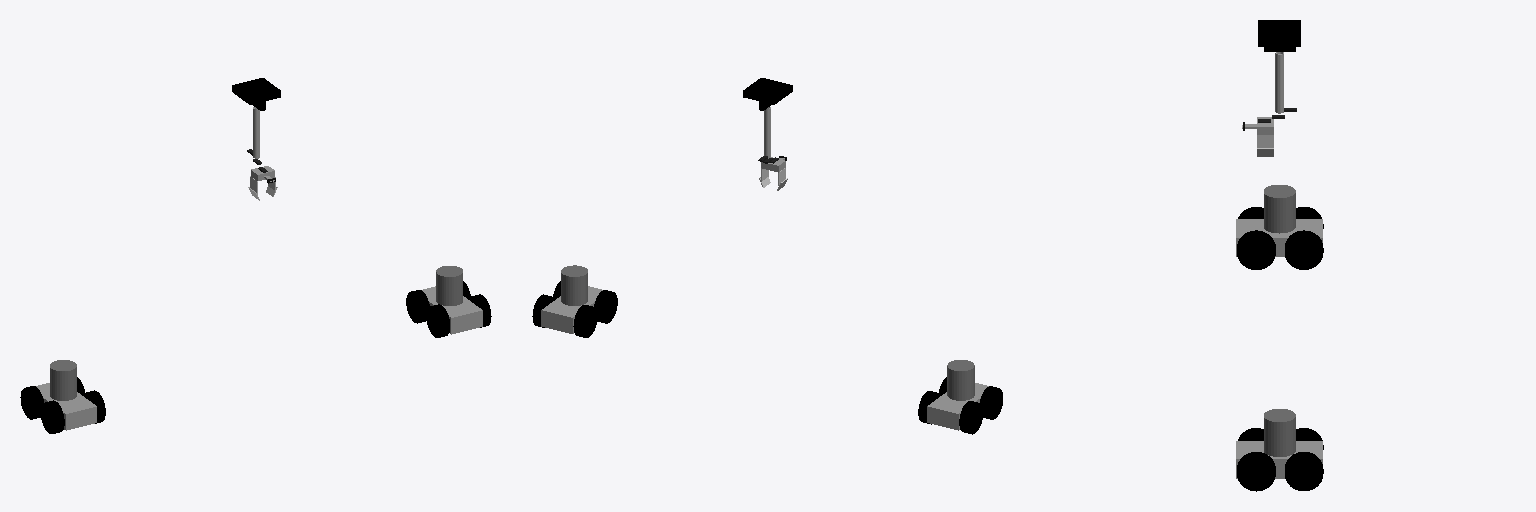
--- Facts derived from the render (not from the file) ---
3 views of the same robot in one strip: view 1: azimuth 30°, elevation 25°; view 2: azimuth 150°, elevation 25°; view 3: azimuth 270°, elevation 25° (orthographic).
Model frame with 47 links and 46 joints (1 revolute, 9 continuous, 5 prismatic, 31 fixed), rooted at Untitled.020, posed all joints at 0.
Visible links, largest first — view 1: Untitled.004, Untitled.009, Untitled.046, Untitled.045, Untitled.026, Untitled.008, Untitled.017, Untitled.011, Untitled.007; view 2: Untitled.004, Untitled.009, Untitled.046, Untitled.045, Untitled.026, Untitled.007, Untitled.011, Untitled.017, Untitled.008; view 3: Untitled.046, Untitled.045, Untitled.005, Untitled.015, Untitled.006, Untitled.013, Untitled.026, Untitled.004, Untitled.009, Untitled.030.
Link boxes in pixels (bbox=[...]): Untitled.004: bbox=[36, 383, 96, 430]; Untitled.009: bbox=[422, 286, 482, 334]; Untitled.046: bbox=[50, 360, 76, 400]; Untitled.045: bbox=[436, 266, 462, 305]; Untitled.026: bbox=[232, 78, 280, 104]; Untitled.008: bbox=[41, 400, 64, 433]; Untitled.017: bbox=[426, 304, 449, 337]; Untitled.011: bbox=[406, 290, 429, 323]; Untitled.007: bbox=[20, 386, 43, 419]; Untitled.004: bbox=[927, 383, 988, 430]; Untitled.009: bbox=[541, 286, 602, 333]; Untitled.046: bbox=[947, 360, 974, 400]; Untitled.045: bbox=[561, 265, 587, 305]; Untitled.026: bbox=[743, 78, 792, 104]; Untitled.007: bbox=[959, 401, 982, 434]; Untitled.011: bbox=[573, 305, 597, 337]; Untitled.017: bbox=[594, 290, 617, 323]; Untitled.008: bbox=[980, 386, 1002, 419]; Untitled.046: bbox=[1264, 185, 1295, 233]; Untitled.045: bbox=[1264, 409, 1295, 456]; Untitled.005: bbox=[1237, 230, 1275, 269]; Untitled.015: bbox=[1237, 452, 1275, 491]; Untitled.006: bbox=[1285, 230, 1323, 269]; Untitled.013: bbox=[1285, 452, 1323, 490]; Untitled.026: bbox=[1258, 20, 1300, 46]; Untitled.004: bbox=[1236, 219, 1322, 256]; Untitled.009: bbox=[1236, 441, 1322, 478]; Untitled.030: bbox=[1275, 52, 1283, 113].
Size in the robot's own frame: 2.75 by 0.4022 by 1.73 metres.
1 mesh visuals loaded from 7 distinct referenced files (1 binary STL); not drawn: 6 (reference not matched to a file when rendering).

URDF robot description (frame):
<?xml version="1.0"?>
<!-- created with Phobos 1.0.1 "Capricious Choutengan" -->
  <robot name="frame">

    <link name="Untitled">
      <inertial>
        <origin xyz="0 0 0" rpy="0 0 0"/>
        <mass value="0.001"/>
        <inertia ixx="0.001" ixy="0" ixz="0" iyy="0.001" iyz="0" izz="0.001"/>
      </inertial>
    </link>

    <link name="Untitled.001">
      <inertial>
        <origin xyz="0 0 0" rpy="0 0 0"/>
        <mass value="0.001"/>
        <inertia ixx="0.001" ixy="0" ixz="0" iyy="0.001" iyz="0" izz="0.001"/>
      </inertial>
    </link>

    <link name="Untitled.002">
      <inertial>
        <origin xyz="0 0 0" rpy="0 0 0"/>
        <mass value="0.001"/>
        <inertia ixx="0.001" ixy="0" ixz="0" iyy="0.001" iyz="0" izz="0.001"/>
      </inertial>
    </link>

    <link name="Untitled.003">
      <inertial>
        <origin xyz="0 0 0" rpy="0 0 0"/>
        <mass value="0.001"/>
        <inertia ixx="0.001" ixy="0" ixz="0" iyy="0.001" iyz="0" izz="0.001"/>
      </inertial>
    </link>

    <link name="Untitled.004">
      <inertial>
        <origin xyz="0 0 0" rpy="0 0 0"/>
        <mass value="4.0"/>
        <inertia ixx="0.00043" ixy="0" ixz="0" iyy="0.00145" iyz="0" izz="0.06667"/>
      </inertial>
      <visual name="base link.000">
        <origin xyz="0 0 0" rpy="0 0 0"/>
        <geometry>
          <box size="0.4 0.2 0.1"/>
        </geometry>
        <material name="Material.005"/>
      </visual>
      <collision name="base link.000">
        <origin xyz="0 0 0" rpy="0 0 0"/>
        <geometry>
          <box size="0.4 0.2 0.1"/>
        </geometry>
      </collision>
    </link>

    <link name="Untitled.005">
      <inertial>
        <origin xyz="0 0 0" rpy="0 0 0"/>
        <mass value="0.25"/>
        <inertia ixx="7e-05" ixy="0" ixz="0" iyy="0.00013" iyz="0" izz="0.00056"/>
      </inertial>
      <visual name="bl Link.000">
        <origin xyz="-0.0022 0 0" rpy="-3.14159 0 0"/>
        <geometry>
          <cylinder radius="0.09" length="0.05"/>
        </geometry>
        <material name="Material.004"/>
      </visual>
      <collision name="bl Link.000">
        <origin xyz="-0.0022 0 0" rpy="-3.14159 0 0"/>
        <geometry>
          <cylinder radius="0.09" length="0.05"/>
        </geometry>
      </collision>
    </link>

    <link name="Untitled.006">
      <inertial>
        <origin xyz="0 0 0" rpy="0 0 0"/>
        <mass value="0.25"/>
        <inertia ixx="7e-05" ixy="0" ixz="0" iyy="0.00013" iyz="0" izz="0.00056"/>
      </inertial>
      <visual name="bl Link.002.000">
        <origin xyz="-0.0022 0 0" rpy="-3.14159 0 0"/>
        <geometry>
          <cylinder radius="0.09" length="0.05"/>
        </geometry>
        <material name="Material.001"/>
      </visual>
      <collision name="bl Link.002.000">
        <origin xyz="-0.0022 0 0" rpy="-3.14159 0 0"/>
        <geometry>
          <cylinder radius="0.09" length="0.05"/>
        </geometry>
      </collision>
    </link>

    <link name="Untitled.007">
      <inertial>
        <origin xyz="0 0 0" rpy="0 0 0"/>
        <mass value="0.25"/>
        <inertia ixx="7e-05" ixy="0" ixz="0" iyy="0.00013" iyz="0" izz="0.00056"/>
      </inertial>
      <visual name="bl Link.003.000">
        <origin xyz="-0.0022 0 0" rpy="0 0 0"/>
        <geometry>
          <cylinder radius="0.09" length="0.05"/>
        </geometry>
        <material name="Material.002"/>
      </visual>
      <collision name="bl Link.003.000">
        <origin xyz="-0.0022 0 0" rpy="0 0 0"/>
        <geometry>
          <cylinder radius="0.09" length="0.05"/>
        </geometry>
      </collision>
    </link>

    <link name="Untitled.008">
      <inertial>
        <origin xyz="0 0 0" rpy="0 0 0"/>
        <mass value="0.25"/>
        <inertia ixx="7e-05" ixy="0" ixz="0" iyy="0.00013" iyz="0" izz="0.00056"/>
      </inertial>
      <visual name="bl Link.001.000">
        <origin xyz="-0.0022 0 0" rpy="0 0 0"/>
        <geometry>
          <cylinder radius="0.09" length="0.05"/>
        </geometry>
        <material name="Material.003"/>
      </visual>
      <collision name="bl Link.001.000">
        <origin xyz="-0.0022 0 0" rpy="0 0 0"/>
        <geometry>
          <cylinder radius="0.09" length="0.05"/>
        </geometry>
      </collision>
    </link>

    <link name="Untitled.009">
      <inertial>
        <origin xyz="0 0 0" rpy="0 0 0"/>
        <mass value="4.0"/>
        <inertia ixx="0.00043" ixy="0" ixz="0" iyy="0.00145" iyz="0" izz="0.06667"/>
      </inertial>
      <visual name="base link.001">
        <origin xyz="0 0 0" rpy="0 0 0"/>
        <geometry>
          <box size="0.4 0.2 0.1"/>
        </geometry>
        <material name="Material.005"/>
      </visual>
      <collision name="base link.000">
        <origin xyz="0 0 0" rpy="0 0 0"/>
        <geometry>
          <box size="0.4 0.2 0.1"/>
        </geometry>
      </collision>
    </link>

    <link name="Untitled.010">
      <inertial>
        <origin xyz="0 0 0" rpy="0 0 0"/>
        <mass value="0.001"/>
        <inertia ixx="0.001" ixy="0" ixz="0" iyy="0.001" iyz="0" izz="0.001"/>
      </inertial>
    </link>

    <link name="Untitled.011">
      <inertial>
        <origin xyz="0 0 0" rpy="0 0 0"/>
        <mass value="0.25"/>
        <inertia ixx="7e-05" ixy="0" ixz="0" iyy="0.00013" iyz="0" izz="0.00056"/>
      </inertial>
      <visual name="bl Link.003.001">
        <origin xyz="-0.0022 0 0" rpy="0 0 0"/>
        <geometry>
          <cylinder radius="0.09" length="0.05"/>
        </geometry>
        <material name="Material.002"/>
      </visual>
      <collision name="bl Link.003.000">
        <origin xyz="-0.0022 0 0" rpy="0 0 0"/>
        <geometry>
          <cylinder radius="0.09" length="0.05"/>
        </geometry>
      </collision>
    </link>

    <link name="Untitled.012">
      <inertial>
        <origin xyz="0 0 0" rpy="0 0 0"/>
        <mass value="0.001"/>
        <inertia ixx="0.001" ixy="0" ixz="0" iyy="0.001" iyz="0" izz="0.001"/>
      </inertial>
    </link>

    <link name="Untitled.013">
      <inertial>
        <origin xyz="0 0 0" rpy="0 0 0"/>
        <mass value="0.25"/>
        <inertia ixx="7e-05" ixy="0" ixz="0" iyy="0.00013" iyz="0" izz="0.00056"/>
      </inertial>
      <visual name="bl Link.002.001">
        <origin xyz="-0.0022 0 0" rpy="-3.14159 0 0"/>
        <geometry>
          <cylinder radius="0.09" length="0.05"/>
        </geometry>
        <material name="Material.001"/>
      </visual>
      <collision name="bl Link.002.000">
        <origin xyz="-0.0022 0 0" rpy="-3.14159 0 0"/>
        <geometry>
          <cylinder radius="0.09" length="0.05"/>
        </geometry>
      </collision>
    </link>

    <link name="Untitled.014">
      <inertial>
        <origin xyz="0 0 0" rpy="0 0 0"/>
        <mass value="0.001"/>
        <inertia ixx="0.001" ixy="0" ixz="0" iyy="0.001" iyz="0" izz="0.001"/>
      </inertial>
    </link>

    <link name="Untitled.015">
      <inertial>
        <origin xyz="0 0 0" rpy="0 0 0"/>
        <mass value="0.25"/>
        <inertia ixx="7e-05" ixy="0" ixz="0" iyy="0.00013" iyz="0" izz="0.00056"/>
      </inertial>
      <visual name="bl Link.001">
        <origin xyz="-0.0022 0 0" rpy="-3.14159 0 0"/>
        <geometry>
          <cylinder radius="0.09" length="0.05"/>
        </geometry>
        <material name="Material.004"/>
      </visual>
      <collision name="bl Link.000">
        <origin xyz="-0.0022 0 0" rpy="-3.14159 0 0"/>
        <geometry>
          <cylinder radius="0.09" length="0.05"/>
        </geometry>
      </collision>
    </link>

    <link name="Untitled.016">
      <inertial>
        <origin xyz="0 0 0" rpy="0 0 0"/>
        <mass value="0.001"/>
        <inertia ixx="0.001" ixy="0" ixz="0" iyy="0.001" iyz="0" izz="0.001"/>
      </inertial>
    </link>

    <link name="Untitled.017">
      <inertial>
        <origin xyz="0 0 0" rpy="0 0 0"/>
        <mass value="0.25"/>
        <inertia ixx="7e-05" ixy="0" ixz="0" iyy="0.00013" iyz="0" izz="0.00056"/>
      </inertial>
      <visual name="bl Link.001.001">
        <origin xyz="-0.0022 0 0" rpy="0 0 0"/>
        <geometry>
          <cylinder radius="0.09" length="0.05"/>
        </geometry>
        <material name="Material.003"/>
      </visual>
      <collision name="bl Link.001.000">
        <origin xyz="-0.0022 0 0" rpy="0 0 0"/>
        <geometry>
          <cylinder radius="0.09" length="0.05"/>
        </geometry>
      </collision>
    </link>

    <link name="Untitled.018">
      <inertial>
        <origin xyz="0 0 0" rpy="0 0 0"/>
        <mass value="0.001"/>
        <inertia ixx="0.001" ixy="0" ixz="0" iyy="0.001" iyz="0" izz="0.001"/>
      </inertial>
    </link>

    <link name="Untitled.019">
      <inertial>
        <origin xyz="0 0 0" rpy="0 0 0"/>
        <mass value="0.001"/>
        <inertia ixx="0.001" ixy="0" ixz="0" iyy="0.001" iyz="0" izz="0.001"/>
      </inertial>
    </link>

    <link name="Untitled.020">
      <inertial>
        <origin xyz="0 0 0" rpy="0 0 0"/>
        <mass value="6.0"/>
        <inertia ixx="5.68584" ixy="0" ixz="0" iyy="1.05355" iyz="0" izz="4.63377"/>
      </inertial>
      <visual name="base link.002">
        <origin xyz="0 0 -0.06" rpy="0 0 0"/>
        <geometry>
          <mesh filename="base link.004.stl" scale="1.0 1.0 1.0"/>
        </geometry>
        <material name="Material.007"/>
      </visual>
      <collision name="base link.002.000">
        <origin xyz="0 0 -0.06" rpy="0 0 0"/>
        <geometry>
          <mesh filename="base link.005.stl" scale="1.0 1.0 1.0"/>
        </geometry>
      </collision>
    </link>

    <link name="Untitled.021">
      <inertial>
        <origin xyz="0 0 0.01" rpy="0 0 0"/>
        <mass value="0.01"/>
        <inertia ixx="2e-05" ixy="0" ixz="0" iyy="2e-05" iyz="0" izz="2e-05"/>
      </inertial>
      <visual name="Cube.003">
        <origin xyz="0 0 0.01" rpy="0 0 0"/>
        <geometry>
          <box size="0.15 0.03 0.01"/>
        </geometry>
        <material name="Material.009"/>
      </visual>
      <collision name="Cube.003">
        <origin xyz="0 0 0.01" rpy="0 0 0"/>
        <geometry>
          <box size="0.15 0.03 0.01"/>
        </geometry>
      </collision>
    </link>

    <link name="Untitled.022">
      <inertial>
        <origin xyz="0 0 0" rpy="0 0 0"/>
        <mass value="0.05"/>
        <inertia ixx="2e-05" ixy="0" ixz="0" iyy="2e-05" iyz="0" izz="2e-05"/>
      </inertial>
      <visual name="Cube.002">
        <origin xyz="0 0 0" rpy="0 0 0"/>
        <geometry>
          <box size="0.03 0.03 0.06"/>
        </geometry>
        <material name="Material.010"/>
      </visual>
      <collision name="Cube.002">
        <origin xyz="0 0 0" rpy="0 0 0"/>
        <geometry>
          <box size="0.03 0.03 0.06"/>
        </geometry>
      </collision>
    </link>

    <link name="Untitled.023">
      <inertial>
        <origin xyz="0 0 0" rpy="0 0 0"/>
        <mass value="0.05"/>
        <inertia ixx="2e-05" ixy="0" ixz="0" iyy="2e-05" iyz="0" izz="2e-05"/>
      </inertial>
      <visual name="Cube.001">
        <origin xyz="0 0 0" rpy="0 0 0"/>
        <geometry>
          <box size="0.03 0.03 0.06"/>
        </geometry>
        <material name="Material.010"/>
      </visual>
      <collision name="Cube.001">
        <origin xyz="0 0 0" rpy="0 0 0"/>
        <geometry>
          <box size="0.03 0.03 0.06"/>
        </geometry>
      </collision>
    </link>

    <link name="Untitled.024">
      <inertial>
        <origin xyz="0 0 0" rpy="0 0 0"/>
        <mass value="0.001"/>
        <inertia ixx="0.001" ixy="0" ixz="0" iyy="0.001" iyz="0" izz="0.001"/>
      </inertial>
    </link>

    <link name="Untitled.025">
      <inertial>
        <origin xyz="0 0 0" rpy="0 0 0"/>
        <mass value="0.001"/>
        <inertia ixx="0.001" ixy="0" ixz="0" iyy="0.001" iyz="0" izz="0.001"/>
      </inertial>
    </link>

    <link name="Untitled.026">
      <inertial>
        <origin xyz="0 0 0" rpy="0 0 0"/>
        <mass value="0.5"/>
        <inertia ixx="2e-05" ixy="0" ixz="0" iyy="2e-05" iyz="0" izz="2e-05"/>
      </inertial>
      <visual name="Cube">
        <origin xyz="0 0 0" rpy="-1.5708 0 0"/>
        <geometry>
          <box size="0.2 0.2 0.04"/>
        </geometry>
        <material name="Material.008"/>
      </visual>
      <collision name="Cube">
        <origin xyz="0 0 0" rpy="-1.5708 0 0"/>
        <geometry>
          <box size="0.2 0.2 0.04"/>
        </geometry>
      </collision>
    </link>

    <link name="Untitled.027">
      <inertial>
        <origin xyz="0 0 0" rpy="0 0 0"/>
        <mass value="0.5"/>
        <inertia ixx="0.00286" ixy="0" ixz="0" iyy="0.00286" iyz="0" izz="0.0001"/>
      </inertial>
      <visual name="base link">
        <origin xyz="0 0 0" rpy="0 0 0"/>
        <geometry>
          <mesh filename="base link.006.stl" scale="1.0 1.0 1.0"/>
        </geometry>
        <material name="Material.011"/>
      </visual>
      <collision name="base link.000.001.002">
        <origin xyz="0 0.00061 0" rpy="0 0 0"/>
        <geometry>
          <mesh filename="base link.009.stl" scale="1.0 1.0 1.0"/>
        </geometry>
      </collision>
    </link>

    <link name="Untitled.028">
      <inertial>
        <origin xyz="0 0 0.02952" rpy="0 0 0"/>
        <mass value="0.5"/>
        <inertia ixx="0.00377" ixy="0" ixz="0" iyy="0.00377" iyz="0" izz="4e-05"/>
      </inertial>
      <visual name="inner Link">
        <origin xyz="0 0 0.02952" rpy="0 0 0"/>
        <geometry>
          <mesh filename="inner Link.stl" scale="1.0 1.0 1.0"/>
        </geometry>
        <material name="Material.012"/>
      </visual>
      <collision name="inner Link.000">
        <origin xyz="0 0 0.02952" rpy="0 0 0"/>
        <geometry>
          <mesh filename="inner Link.003.stl" scale="1.0 1.0 1.0"/>
        </geometry>
      </collision>
    </link>

    <link name="Untitled.029">
      <inertial>
        <origin xyz="0 0 0" rpy="0 0 0"/>
        <mass value="0.1"/>
        <inertia ixx="2e-05" ixy="0" ixz="0" iyy="2e-05" iyz="0" izz="2e-05"/>
      </inertial>
      <visual name="Cube.004">
        <origin xyz="0 0 0" rpy="0 0 0"/>
        <geometry>
          <box size="0.06 0.026 0.01"/>
        </geometry>
        <material name="Material.013"/>
      </visual>
      <collision name="Cube.004">
        <origin xyz="0 0 0" rpy="0 0 0"/>
        <geometry>
          <box size="0.06 0.026 0.01"/>
        </geometry>
      </collision>
    </link>

    <link name="Untitled.030">
      <inertial>
        <origin xyz="0 0 0" rpy="0 0 0"/>
        <mass value="0.5"/>
        <inertia ixx="0.00286" ixy="0" ixz="0" iyy="0.00286" iyz="0" izz="0.0001"/>
      </inertial>
      <visual name="base link.003">
        <origin xyz="0 0 0" rpy="0 0 0"/>
        <geometry>
          <mesh filename="base link.007.stl" scale="1.0 1.0 1.0"/>
        </geometry>
        <material name="Material.014"/>
      </visual>
      <collision name="base link.003.000">
        <origin xyz="0 0 0" rpy="0 0 0"/>
        <geometry>
          <mesh filename="base link.010.stl" scale="1.0 1.0 1.0"/>
        </geometry>
      </collision>
    </link>

    <link name="Untitled.031">
      <inertial>
        <origin xyz="0 0 0" rpy="0 0 0"/>
        <mass value="0.5"/>
        <inertia ixx="0.00377" ixy="0" ixz="0" iyy="0.00377" iyz="0" izz="4e-05"/>
      </inertial>
      <visual name="inner Link.001">
        <origin xyz="0 0 0" rpy="0 0 0"/>
        <geometry>
          <mesh filename="inner Link.001.stl" scale="1.0 1.0 1.0"/>
        </geometry>
        <material name="Material.015"/>
      </visual>
      <collision name="inner Link.001.000">
        <origin xyz="0 0 0" rpy="0 0 0"/>
        <geometry>
          <mesh filename="inner Link.004.stl" scale="1.0 1.0 1.0"/>
        </geometry>
      </collision>
    </link>

    <link name="Untitled.032">
      <inertial>
        <origin xyz="0 0 0" rpy="0 0 0"/>
        <mass value="0.1"/>
        <inertia ixx="2e-05" ixy="0" ixz="0" iyy="2e-05" iyz="0" izz="2e-05"/>
      </inertial>
      <visual name="Cube.005">
        <origin xyz="0 0 0" rpy="0 0 0"/>
        <geometry>
          <box size="0.06 0.026 0.01"/>
        </geometry>
        <material name="Material.016"/>
      </visual>
      <collision name="Cube.005">
        <origin xyz="0 0 0" rpy="0 0 0"/>
        <geometry>
          <box size="0.06 0.026 0.01"/>
        </geometry>
      </collision>
    </link>

    <link name="Untitled.033">
      <inertial>
        <origin xyz="0 0 0" rpy="0 0 0"/>
        <mass value="0.5"/>
        <inertia ixx="0.00286" ixy="0" ixz="0" iyy="0.00286" iyz="0" izz="0.0001"/>
      </inertial>
      <visual name="base link.004">
        <origin xyz="0 0 0" rpy="0 0 0"/>
        <geometry>
          <mesh filename="base link.008.stl" scale="1.0 1.0 1.0"/>
        </geometry>
        <material name="Material.017"/>
      </visual>
      <collision name="base link.004.000">
        <origin xyz="0 0 0" rpy="0 0 0"/>
        <geometry>
          <mesh filename="base link.011.stl" scale="1.0 1.0 1.0"/>
        </geometry>
      </collision>
    </link>

    <link name="Untitled.034">
      <inertial>
        <origin xyz="0 0 0" rpy="0 0 0"/>
        <mass value="0.5"/>
        <inertia ixx="0.00377" ixy="0" ixz="0" iyy="0.00377" iyz="0" izz="4e-05"/>
      </inertial>
      <visual name="inner Link.002">
        <origin xyz="0 0 0" rpy="0 0 0"/>
        <geometry>
          <mesh filename="inner Link.002.stl" scale="1.0 1.0 1.0"/>
        </geometry>
        <material name="Material.018"/>
      </visual>
      <collision name="inner Link.002.000">
        <origin xyz="0 0 0" rpy="0 0 0"/>
        <geometry>
          <mesh filename="inner Link.005.stl" scale="1.0 1.0 1.0"/>
        </geometry>
      </collision>
    </link>

    <link name="Untitled.035">
      <inertial>
        <origin xyz="0 0 0" rpy="0 0 0"/>
        <mass value="0.1"/>
        <inertia ixx="2e-05" ixy="0" ixz="0" iyy="2e-05" iyz="0" izz="2e-05"/>
      </inertial>
      <visual name="Cube.006">
        <origin xyz="0 0 0" rpy="0 0 0"/>
        <geometry>
          <box size="0.06 0.026 0.01"/>
        </geometry>
        <material name="Material.019"/>
      </visual>
      <collision name="Cube.006">
        <origin xyz="0 0 0" rpy="0 0 0"/>
        <geometry>
          <box size="0.06 0.026 0.01"/>
        </geometry>
      </collision>
    </link>

    <link name="Untitled.036">
      <inertial>
        <origin xyz="0 0 0" rpy="0 0 0"/>
        <mass value="0.3"/>
        <inertia ixx="2e-05" ixy="0" ixz="0" iyy="2e-05" iyz="0" izz="2e-05"/>
      </inertial>
      <visual name="Cube.007">
        <origin xyz="0 0 0" rpy="0 0 0"/>
        <geometry>
          <box size="0.08 0.11 0.04"/>
        </geometry>
        <material name="Material.020"/>
      </visual>
      <collision name="Cube.007">
        <origin xyz="0 0 0" rpy="0 0 0"/>
        <geometry>
          <box size="0.06 0.055 0.04"/>
        </geometry>
      </collision>
    </link>

    <link name="Untitled.037">
      <inertial>
        <origin xyz="0 0 0" rpy="0 0 0"/>
        <mass value="0.01"/>
        <inertia ixx="2e-05" ixy="0" ixz="0" iyy="2e-05" iyz="0" izz="2e-05"/>
      </inertial>
      <visual name="Cube.009">
        <origin xyz="0 0 0" rpy="0 0 0"/>
        <geometry>
          <box size="0.08 0.005 0.06"/>
        </geometry>
        <material name="Material.021"/>
      </visual>
      <collision name="Cube.009">
        <origin xyz="0 0 0" rpy="0 0 0"/>
        <geometry>
          <box size="0.08 0.005 0.06"/>
        </geometry>
      </collision>
    </link>

    <link name="Untitled.038">
      <inertial>
        <origin xyz="0 0 0" rpy="0 0 0"/>
        <mass value="0.05"/>
        <inertia ixx="2e-05" ixy="0" ixz="0" iyy="2e-05" iyz="0" izz="2e-05"/>
      </inertial>
      <visual name="Cube.008">
        <origin xyz="0 0 0" rpy="-1.5708 0 0"/>
        <geometry>
          <box size="0.08 0.005 0.08"/>
        </geometry>
        <material name="Material.022"/>
      </visual>
      <collision name="Cube.008">
        <origin xyz="0 0 0" rpy="-1.5708 0 0"/>
        <geometry>
          <box size="0.08 0.005 0.08"/>
        </geometry>
      </collision>
    </link>

    <link name="Untitled.039">
      <inertial>
        <origin xyz="0 0 0" rpy="0 0 0"/>
        <mass value="0.01"/>
        <inertia ixx="2e-05" ixy="0" ixz="0" iyy="2e-05" iyz="0" izz="2e-05"/>
      </inertial>
      <visual name="Cube.011">
        <origin xyz="0 0 0" rpy="0 0 0"/>
        <geometry>
          <box size="0.08 0.005 0.06"/>
        </geometry>
        <material name="Material.024"/>
      </visual>
      <collision name="Cube.011">
        <origin xyz="0 0 0" rpy="0 0 0"/>
        <geometry>
          <box size="0.08 0.005 0.06"/>
        </geometry>
      </collision>
    </link>

    <link name="Untitled.040">
      <inertial>
        <origin xyz="0 0 0" rpy="0 0 0"/>
        <mass value="0.05"/>
        <inertia ixx="2e-05" ixy="0" ixz="0" iyy="2e-05" iyz="0" izz="2e-05"/>
      </inertial>
      <visual name="Cube.010">
        <origin xyz="0 0 0" rpy="1.5708 0 0"/>
        <geometry>
          <box size="0.08 0.005 0.08"/>
        </geometry>
        <material name="Material.023"/>
      </visual>
      <collision name="Cube.010">
        <origin xyz="0 0 0" rpy="1.5708 0 0"/>
        <geometry>
          <box size="0.08 0.005 0.08"/>
        </geometry>
      </collision>
    </link>

    <link name="Untitled.041">
      <inertial>
        <origin xyz="0 0 0" rpy="0 0 0"/>
        <mass value="0.005"/>
        <inertia ixx="2e-05" ixy="0" ixz="0" iyy="2e-05" iyz="0" izz="2e-05"/>
      </inertial>
      <visual name="Cube.012.000">
        <origin xyz="0 0 0" rpy="0 0 0"/>
        <geometry>
          <box size="0.06 0.026 0.01"/>
        </geometry>
        <material name="Material.025"/>
      </visual>
      <collision name="Cube.012.000">
        <origin xyz="0 0 0" rpy="0 0 0"/>
        <geometry>
          <box size="0.06 0.026 0.01"/>
        </geometry>
      </collision>
    </link>

    <link name="Untitled.042">
      <inertial>
        <origin xyz="0 0 0.01" rpy="0 0 0"/>
        <mass value="0.005"/>
        <inertia ixx="2e-05" ixy="0" ixz="0" iyy="2e-05" iyz="0" izz="2e-05"/>
      </inertial>
      <visual name="Cube.013">
        <origin xyz="0 0 0.01" rpy="-1.5708 0 -1.5708"/>
        <geometry>
          <box size="0.02 0.05 0.01"/>
        </geometry>
        <material name="Material.026"/>
      </visual>
      <collision name="Cube.013">
        <origin xyz="0 0 0.01" rpy="-1.5708 0 -1.5708"/>
        <geometry>
          <box size="0.02 0.05 0.01"/>
        </geometry>
      </collision>
    </link>

    <link name="Untitled.043">
      <inertial>
        <origin xyz="0 0 0" rpy="0 0 0"/>
        <mass value="0.001"/>
        <inertia ixx="0.001" ixy="0" ixz="0" iyy="0.001" iyz="0" izz="0.001"/>
      </inertial>
      <visual name="Cylinder.001">
        <origin xyz="0 0 0" rpy="0 0 0"/>
        <geometry>
          <cylinder radius="0.005" length="0.01"/>
        </geometry>
        <material name="Material.027"/>
      </visual>
    </link>

    <link name="Untitled.044">
      <inertial>
        <origin xyz="0 0 0" rpy="0 0 0"/>
        <mass value="0.001"/>
        <inertia ixx="0.001" ixy="0" ixz="0" iyy="0.001" iyz="0" izz="0.001"/>
      </inertial>
      <visual name="Cylinder">
        <origin xyz="0 0 0" rpy="0 0 0"/>
        <geometry>
          <cylinder radius="0.005" length="0.01"/>
        </geometry>
        <material name="Material.027"/>
      </visual>
    </link>

    <link name="Untitled.045">
      <inertial>
        <origin xyz="0 0 0" rpy="0 0 0"/>
        <mass value="1.0"/>
        <inertia ixx="2e-05" ixy="0" ixz="0" iyy="2e-05" iyz="0" izz="3e-05"/>
      </inertial>
      <visual name="Cylinder.003">
        <origin xyz="0 0 0" rpy="0 0 0"/>
        <geometry>
          <cylinder radius="0.075" length="0.18"/>
        </geometry>
        <material name="Material.028"/>
      </visual>
      <collision name="Cylinder.003">
        <origin xyz="0 0 0" rpy="0 0 0"/>
        <geometry>
          <cylinder radius="0.075" length="0.18"/>
        </geometry>
      </collision>
    </link>

    <link name="Untitled.046">
      <inertial>
        <origin xyz="0 0 0" rpy="0 0 0"/>
        <mass value="1.0"/>
        <inertia ixx="2e-05" ixy="0" ixz="0" iyy="2e-05" iyz="0" izz="2e-05"/>
      </inertial>
      <visual name="Cylinder.002">
        <origin xyz="0 0 0" rpy="0 0 0"/>
        <geometry>
          <cylinder radius="0.075" length="0.18"/>
        </geometry>
        <material name="Material.028"/>
      </visual>
      <collision name="Cylinder.002">
        <origin xyz="0 0 0" rpy="0 0 0"/>
        <geometry>
          <cylinder radius="0.075" length="0.18"/>
        </geometry>
      </collision>
    </link>

    <joint name="Untitled" type="fixed">
      <origin xyz="-0.11 0.06 0" rpy="1.5708 0 0"/>
      <parent link="Untitled.004"/>
      <child link="Untitled"/>
    </joint>

    <joint name="Untitled.001" type="fixed">
      <origin xyz="-0.11 -0.06 0" rpy="-1.5708 0 0"/>
      <parent link="Untitled.004"/>
      <child link="Untitled.001"/>
    </joint>

    <joint name="Untitled.002" type="fixed">
      <origin xyz="0.11 0.06 0" rpy="1.5708 0 0"/>
      <parent link="Untitled.004"/>
      <child link="Untitled.002"/>
    </joint>

    <joint name="Untitled.003" type="fixed">
      <origin xyz="0.11 -0.06 0" rpy="-1.5708 0 0"/>
      <parent link="Untitled.004"/>
      <child link="Untitled.003"/>
    </joint>

    <joint name="Untitled.004" type="fixed">
      <origin xyz="0 0 -0.07" rpy="0 0 -1.5708"/>
      <parent link="Untitled.018"/>
      <child link="Untitled.004"/>
    </joint>

    <joint name="Untitled.005" type="continuous">
      <origin xyz="0 0 -0.07" rpy="3.14159 0 0"/>
      <parent link="Untitled.002"/>
      <child link="Untitled.005"/>
      <axis xyz="0 0 1.0"/>
      <limit effort="0.1" velocity="1.5"/>
    </joint>

    <joint name="Untitled.006" type="continuous">
      <origin xyz="0 0 -0.07" rpy="3.14159 0 0"/>
      <parent link="Untitled"/>
      <child link="Untitled.006"/>
      <axis xyz="0 0 1.0"/>
      <limit effort="0.1" velocity="1.5"/>
    </joint>

    <joint name="Untitled.007" type="continuous">
      <origin xyz="0 0 -0.07" rpy="-3.14159 0 0"/>
      <parent link="Untitled.001"/>
      <child link="Untitled.007"/>
      <axis xyz="0 0 1.0"/>
      <limit effort="0.1" velocity="1.5"/>
    </joint>

    <joint name="Untitled.008" type="continuous">
      <origin xyz="0 0 -0.07" rpy="-3.14159 0 0"/>
      <parent link="Untitled.003"/>
      <child link="Untitled.008"/>
      <axis xyz="0 0 1.0"/>
      <limit effort="0.1" velocity="1.5"/>
    </joint>

    <joint name="Untitled.009" type="fixed">
      <origin xyz="0 0 -0.0576" rpy="0 0 -1.5708"/>
      <parent link="Untitled.019"/>
      <child link="Untitled.009"/>
    </joint>

    <joint name="Untitled.010" type="fixed">
      <origin xyz="-0.11 -0.06 0" rpy="-1.5708 0 0"/>
      <parent link="Untitled.009"/>
      <child link="Untitled.010"/>
    </joint>

    <joint name="Untitled.011" type="continuous">
      <origin xyz="0 0 -0.07" rpy="-3.14159 0 0"/>
      <parent link="Untitled.010"/>
      <child link="Untitled.011"/>
      <axis xyz="0 0 1.0"/>
      <limit effort="0.1" velocity="1.5"/>
    </joint>

    <joint name="Untitled.012" type="fixed">
      <origin xyz="-0.11 0.06 0" rpy="1.5708 0 0"/>
      <parent link="Untitled.009"/>
      <child link="Untitled.012"/>
    </joint>

    <joint name="Untitled.013" type="continuous">
      <origin xyz="0 0 -0.07" rpy="3.14159 0 0"/>
      <parent link="Untitled.012"/>
      <child link="Untitled.013"/>
      <axis xyz="0 0 1.0"/>
      <limit effort="0.1" velocity="1.5"/>
    </joint>

    <joint name="Untitled.014" type="fixed">
      <origin xyz="0.11 0.06 0" rpy="1.5708 0 0"/>
      <parent link="Untitled.009"/>
      <child link="Untitled.014"/>
    </joint>

    <joint name="Untitled.015" type="continuous">
      <origin xyz="0 0 -0.07" rpy="3.14159 0 0"/>
      <parent link="Untitled.014"/>
      <child link="Untitled.015"/>
      <axis xyz="0 0 1.0"/>
      <limit effort="0.1" velocity="1.5"/>
    </joint>

    <joint name="Untitled.016" type="fixed">
      <origin xyz="0.11 -0.06 0" rpy="-1.5708 0 0"/>
      <parent link="Untitled.009"/>
      <child link="Untitled.016"/>
    </joint>

    <joint name="Untitled.017" type="continuous">
      <origin xyz="0 0 -0.07" rpy="-3.14159 0 0"/>
      <parent link="Untitled.016"/>
      <child link="Untitled.017"/>
      <axis xyz="0 0 1.0"/>
      <limit effort="0.1" velocity="1.5"/>
    </joint>

    <joint name="Untitled.018" type="fixed">
      <origin xyz="-1.225 0 -1.18292" rpy="0 0 0"/>
      <parent link="Untitled.020"/>
      <child link="Untitled.018"/>
    </joint>

    <joint name="Untitled.019" type="fixed">
      <origin xyz="1.22 0 -1.18292" rpy="0 0 0"/>
      <parent link="Untitled.020"/>
      <child link="Untitled.019"/>
    </joint>

    <joint name="Untitled.021" type="fixed">
      <origin xyz="0.06656 -0.00819 -0.00718" rpy="0 0 0"/>
      <parent link="Untitled.024"/>
      <child link="Untitled.021"/>
    </joint>

    <joint name="Untitled.022" type="fixed">
      <origin xyz="-0.06 -0.05371 0" rpy="-1.5708 0 0"/>
      <parent link="Untitled.026"/>
      <child link="Untitled.022"/>
    </joint>

    <joint name="Untitled.023" type="fixed">
      <origin xyz="0.06 -0.05371 0" rpy="-1.5708 0 0"/>
      <parent link="Untitled.026"/>
      <child link="Untitled.023"/>
    </joint>

    <joint name="Untitled.024" type="fixed">
      <origin xyz="-0.00656 0.00819 -0.03142" rpy="0 0 0"/>
      <parent link="Untitled.022"/>
      <child link="Untitled.024"/>
    </joint>

    <joint name="Untitled.025" type="fixed">
      <origin xyz="0.00237 -0.00899 -0.03609" rpy="0 0 0"/>
      <parent link="Untitled.023"/>
      <child link="Untitled.025"/>
    </joint>

    <joint name="Untitled.026" type="prismatic">
      <origin xyz="0 0 0.36263" rpy="1.5708 0 -1.5708"/>
      <parent link="Untitled.020"/>
      <child link="Untitled.026"/>
      <axis xyz="0 0 1.0"/>
      <limit lower="-1.2931" upper="1.29" effort="0.1" velocity="1.0"/>
    </joint>

    <joint name="Untitled.027" type="fixed">
      <origin xyz="0.00656 -0.00819 -0.15126" rpy="0 0 0"/>
      <parent link="Untitled.024"/>
      <child link="Untitled.027"/>
    </joint>

    <joint name="Untitled.028" type="prismatic">
      <origin xyz="0 0 -0.02468" rpy="0 0 0"/>
      <parent link="Untitled.027"/>
      <child link="Untitled.028"/>
      <axis xyz="0 0 1.0"/>
      <limit lower="-1.2931" upper="1.29" effort="0.1" velocity="1.0"/>
    </joint>

    <joint name="Untitled.029" type="fixed">
      <origin xyz="0.01 0 -0.12848" rpy="0 0 0"/>
      <parent link="Untitled.028"/>
      <child link="Untitled.029"/>
    </joint>

    <joint name="Untitled.030" type="fixed">
      <origin xyz="0.05 0 0.14075" rpy="0 0 0"/>
      <parent link="Untitled.029"/>
      <child link="Untitled.030"/>
    </joint>

    <joint name="Untitled.031" type="prismatic">
      <origin xyz="0 0 -0.02247" rpy="0 0 0"/>
      <parent link="Untitled.030"/>
      <child link="Untitled.031"/>
      <axis xyz="0 0 1.0"/>
      <limit lower="-1.2931" upper="1.29" effort="0.1" velocity="1.0"/>
    </joint>

    <joint name="Untitled.032" type="fixed">
      <origin xyz="0.00738 0.0014 -0.1528" rpy="0 0 0"/>
      <parent link="Untitled.031"/>
      <child link="Untitled.032"/>
    </joint>

    <joint name="Untitled.033" type="fixed">
      <origin xyz="0.05262 -0.0014 0.13993" rpy="0 0 0"/>
      <parent link="Untitled.032"/>
      <child link="Untitled.033"/>
    </joint>

    <joint name="Untitled.034" type="prismatic">
      <origin xyz="0 0 -0.01" rpy="0 0 0"/>
      <parent link="Untitled.033"/>
      <child link="Untitled.034"/>
      <axis xyz="0 0 1.0"/>
      <limit lower="-1.2931" upper="1.29" effort="0.1" velocity="1.0"/>
    </joint>

    <joint name="Untitled.035" type="fixed">
      <origin xyz="0.00989 -0.00047 -0.15397" rpy="0 0 0"/>
      <parent link="Untitled.034"/>
      <child link="Untitled.035"/>
    </joint>

    <joint name="Untitled.036" type="continuous">
      <origin xyz="-0.00332 0.00214 -0.02292" rpy="0 0 0"/>
      <parent link="Untitled.035"/>
      <child link="Untitled.036"/>
      <axis xyz="0 0 1.0"/>
      <limit effort="0.1" velocity="1.0"/>
    </joint>

    <joint name="Untitled.037" type="fixed">
      <origin xyz="0 -0.05 0" rpy="-1.13446 0 0"/>
      <parent link="Untitled.038"/>
      <child link="Untitled.037"/>
    </joint>

    <joint name="Untitled.038" type="fixed">
      <origin xyz="0 -0.055 -0.06044" rpy="1.5708 0 0"/>
      <parent link="Untitled.036"/>
      <child link="Untitled.038"/>
    </joint>

    <joint name="Untitled.039" type="fixed">
      <origin xyz="0 0.05 0" rpy="1.13446 0 0"/>
      <parent link="Untitled.040"/>
      <child link="Untitled.039"/>
    </joint>

    <joint name="Untitled.040" type="prismatic">
      <origin xyz="0 0.055 -0.06044" rpy="-1.5708 0 0"/>
      <parent link="Untitled.036"/>
      <child link="Untitled.040"/>
      <axis xyz="0 0 1.0"/>
      <limit lower="-1.2931" upper="1.29" effort="0.1" velocity="1.0"/>
    </joint>

    <joint name="Untitled.041" type="fixed">
      <origin xyz="0.07032 -0.00214 -0.00337" rpy="0 0 0"/>
      <parent link="Untitled.036"/>
      <child link="Untitled.041"/>
    </joint>

    <joint name="Untitled.042" type="revolute">
      <origin xyz="0.03 0.01 0.00027" rpy="1.5708 0 0"/>
      <parent link="Untitled.041"/>
      <child link="Untitled.042"/>
      <axis xyz="0 0 1.0"/>
      <limit lower="-1.57" upper="0" effort="0.01" velocity="0.1"/>
    </joint>

    <joint name="Untitled.043" type="fixed">
      <origin xyz="0.002 0 0.02" rpy="-1.5708 0 -1.5708"/>
      <parent link="Untitled.042"/>
      <child link="Untitled.043"/>
    </joint>

    <joint name="Untitled.044" type="fixed">
      <origin xyz="0.002 0 0" rpy="-1.5708 0 -1.5708"/>
      <parent link="Untitled.042"/>
      <child link="Untitled.044"/>
    </joint>

    <joint name="Untitled.045" type="fixed">
      <origin xyz="0 0.005 0.1376" rpy="0 0 0"/>
      <parent link="Untitled.009"/>
      <child link="Untitled.045"/>
    </joint>

    <joint name="Untitled.046" type="fixed">
      <origin xyz="0 0 0.15" rpy="0 0 0"/>
      <parent link="Untitled.004"/>
      <child link="Untitled.046"/>
    </joint>

    <material name="Material.001">
      <color rgba="0 0 0 1.0"/>
    </material>

    <material name="Material.002">
      <color rgba="0 0 0 1.0"/>
    </material>

    <material name="Material.003">
      <color rgba="0 0 0 1.0"/>
    </material>

    <material name="Material.004">
      <color rgba="0 0 0 1.0"/>
    </material>

    <material name="Material.005">
      <color rgba="0.64 0.64 0.64 1.0"/>
    </material>

    <material name="Material.007">
      <color rgba="0.4 0.4 0.4 1.0"/>
    </material>

    <material name="Material.008">
      <color rgba="0 0 0 1.0"/>
    </material>

    <material name="Material.009">
      <color rgba="0 0 0 1.0"/>
    </material>

    <material name="Material.010">
      <color rgba="0 0 0 1.0"/>
    </material>

    <material name="Material.011">
      <color rgba="0.64 0.64 0.64 1.0"/>
    </material>

    <material name="Material.012">
      <color rgba="0.16 0.16 0.16 1.0"/>
    </material>

    <material name="Material.013">
      <color rgba="0.16 0.16 0.16 1.0"/>
    </material>

    <material name="Material.014">
      <color rgba="0.64 0.64 0.64 1.0"/>
    </material>

    <material name="Material.015">
      <color rgba="0.16 0.16 0.16 1.0"/>
    </material>

    <material name="Material.016">
      <color rgba="0.16 0.16 0.16 1.0"/>
    </material>

    <material name="Material.017">
      <color rgba="0.64 0.64 0.64 1.0"/>
    </material>

    <material name="Material.018">
      <color rgba="0.16 0.16 0.16 1.0"/>
    </material>

    <material name="Material.019">
      <color rgba="0.16 0.16 0.16 1.0"/>
    </material>

    <material name="Material.020">
      <color rgba="0.64 0.64 0.64 1.0"/>
    </material>

    <material name="Material.021">
      <color rgba="0.76 0.76 0.76 1.0"/>
    </material>

    <material name="Material.022">
      <color rgba="0.76 0.76 0.76 1.0"/>
    </material>

    <material name="Material.023">
      <color rgba="0.76 0.76 0.76 1.0"/>
    </material>

    <material name="Material.024">
      <color rgba="0.76 0.76 0.76 1.0"/>
    </material>

    <material name="Material.025">
      <color rgba="0.64 0.64 0.64 1.0"/>
    </material>

    <material name="Material.026">
      <color rgba="0.09 0.09 0.09 1.0"/>
    </material>

    <material name="Material.027">
      <color rgba="0.76 0.76 0.76 1.0"/>
    </material>

    <material name="Material.028">
      <color rgba="0.48 0.48 0.48 1.0"/>
    </material>

  </robot>
